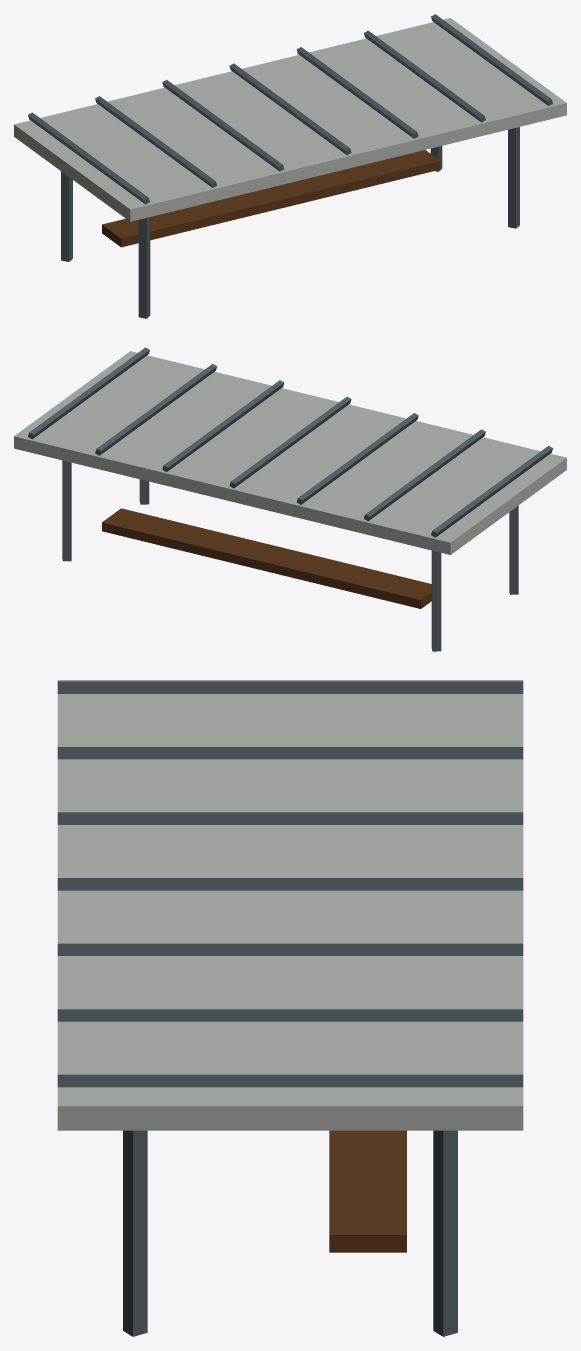
File: shelter-no-floor.glb
3 views of the same model, one above another, from view 1: azimuth 30°, elevation 25°; view 2: azimuth 150°, elevation 25°; view 3: azimuth 270°, elevation 25° (orthographic). The views are drawn at different scales.
Visible parts, largest first — view 1: shelter-no-floor; view 2: shelter-no-floor; view 3: shelter-no-floor.
Part boxes in pixels (x1,y1,x2,y2): shelter-no-floor: (14,14,566,318); shelter-no-floor: (14,347,566,651); shelter-no-floor: (57,680,523,1336).
Size of the model in its own units: 26 by 7.78 by 12.
